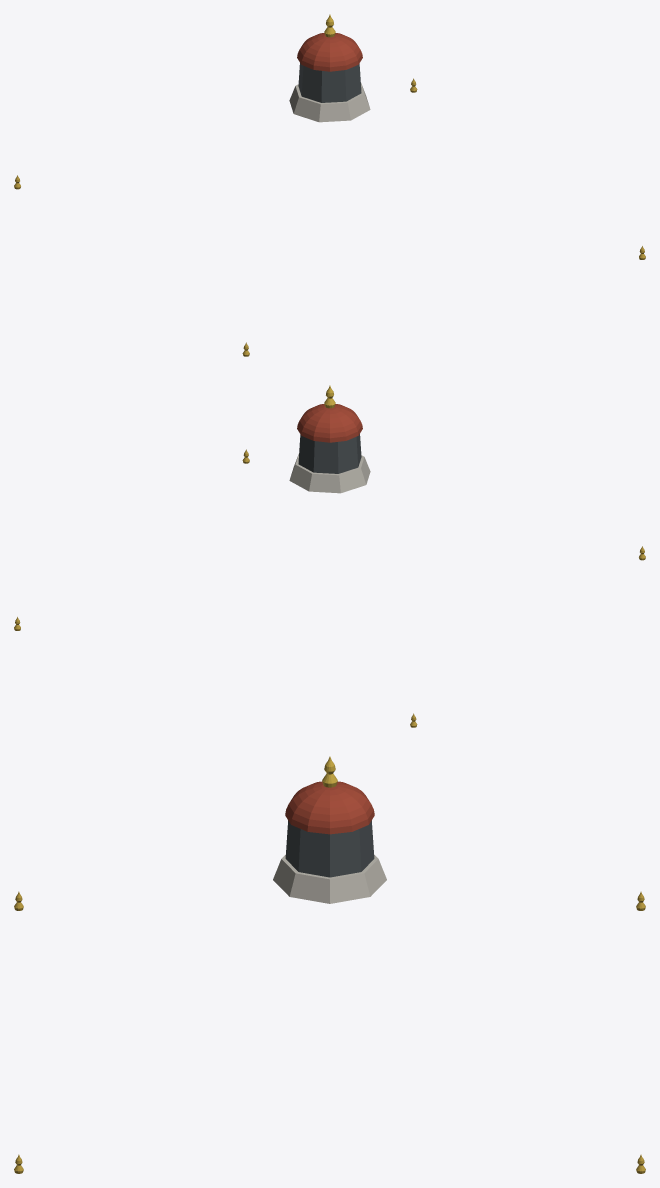
Rendered from ancuu-hero.glb.
The picture shows the model from 3 angles, top to bottom: view 1: azimuth 30°, elevation 25°; view 2: azimuth 150°, elevation 25°; view 3: azimuth 270°, elevation 25°; orthographic projection. The views are drawn at different scales.
Visible parts, largest first — view 1: ancuu_hero_ornaments; view 2: ancuu_hero_ornaments; view 3: ancuu_hero_ornaments.
Part boxes in pixels (left/top/right/bottom): ancuu_hero_ornaments: left=14, top=14, right=645, bottom=356; ancuu_hero_ornaments: left=14, top=385, right=645, bottom=727; ancuu_hero_ornaments: left=14, top=756, right=645, bottom=1173.
Size of the model in its own units: 14.93 by 7.46 by 14.93.
